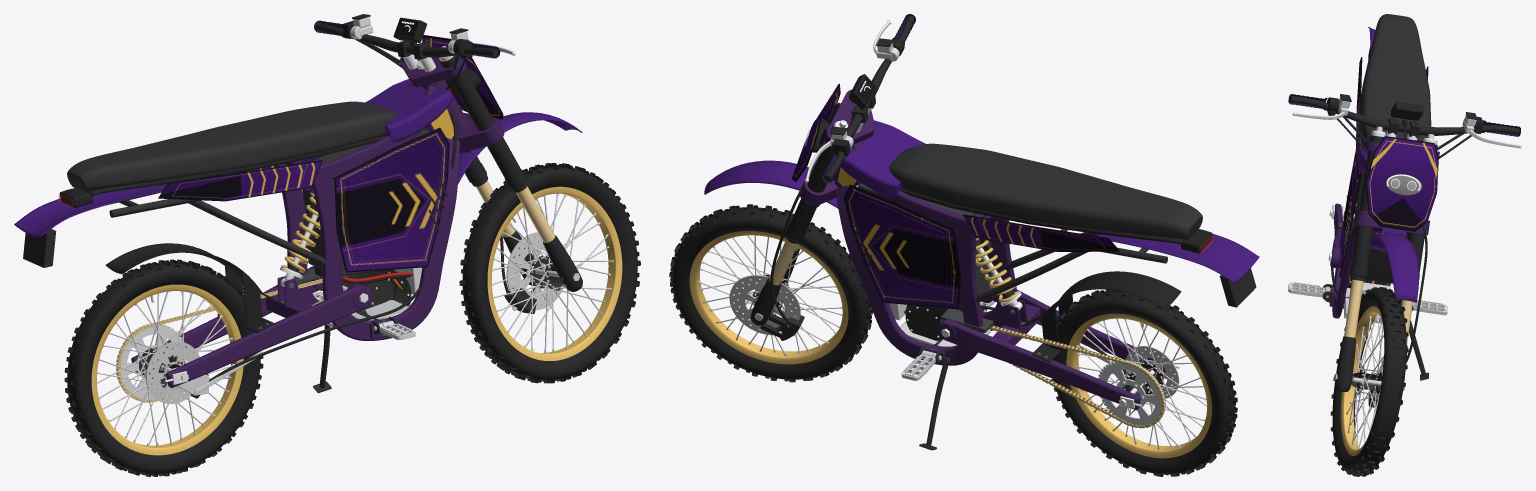
File: surron-light-bee-x-royale.glb
3 views of the same model, side by side, from view 1: azimuth 30°, elevation 25°; view 2: azimuth 150°, elevation 25°; view 3: azimuth 270°, elevation 25° (orthographic). The views are drawn at different scales.
Visible parts, largest first — view 1: Seat, Tire_R, Tire_F, Frame_Main, SidePanel_Inner_R, Swingarm_Arms, SidePanel_R, Rim_F, Rim_R, RearCover_R, Spokes_F, Spokes_R (+25 smaller); view 2: Seat, Tire_F, Tire_R, Frame_Main, SidePanel_Inner_L, Swingarm_Arms, Rim_F, SidePanel_L, Rim_R, TankCover, RearCover_L, RearFender (+21 smaller); view 3: Seat, Tire_F, HeadlightShroud, FrontFender, Spokes_F, Rim_F, Handlebar, Fork_Upper_R, Frame_Main, Battery_Pack, Fork_Lug_R, Fork_Stanchion_R (+15 smaller).
Boxes of the visible parts, x1=… form: Seat: x1=67, y1=101, x2=396, y2=191; Tire_R: x1=64, y1=259, x2=263, y2=476; Tire_F: x1=459, y1=163, x2=640, y2=383; Frame_Main: x1=275, y1=82, x2=459, y2=340; SidePanel_Inner_R: x1=347, y1=141, x2=439, y2=256; Swingarm_Arms: x1=131, y1=266, x2=372, y2=387; SidePanel_R: x1=334, y1=127, x2=449, y2=272; Rim_F: x1=487, y1=186, x2=622, y2=360; Rim_R: x1=91, y1=284, x2=243, y2=455; RearCover_R: x1=158, y1=160, x2=322, y2=201; Spokes_F: x1=492, y1=194, x2=612, y2=352; Spokes_R: x1=97, y1=291, x2=233, y2=446; Seat: x1=889, y1=143, x2=1202, y2=239; Tire_F: x1=669, y1=204, x2=873, y2=382; Tire_R: x1=1050, y1=289, x2=1237, y2=476; Frame_Main: x1=834, y1=130, x2=1016, y2=365; SidePanel_Inner_L: x1=854, y1=196, x2=947, y2=296; Swingarm_Arms: x1=937, y1=280, x2=1170, y2=410; Rim_F: x1=689, y1=231, x2=848, y2=364; SidePanel_L: x1=843, y1=184, x2=961, y2=309; Rim_R: x1=1066, y1=313, x2=1211, y2=458; TankCover: x1=840, y1=120, x2=925, y2=197; RearCover_L: x1=963, y1=214, x2=1119, y2=251; RearFender: x1=1094, y1=234, x2=1259, y2=282; Seat: x1=1359, y1=14, x2=1431, y2=147; Tire_F: x1=1330, y1=287, x2=1408, y2=476; HeadlightShroud: x1=1365, y1=136, x2=1438, y2=231; FrontFender: x1=1370, y1=232, x2=1419, y2=302; Spokes_F: x1=1346, y1=315, x2=1383, y2=448; Rim_F: x1=1340, y1=306, x2=1382, y2=455; Handlebar: x1=1289, y1=96, x2=1519, y2=135; Fork_Upper_R: x1=1350, y1=135, x2=1383, y2=277; Frame_Main: x1=1329, y1=136, x2=1408, y2=318; Battery_Pack: x1=1350, y1=174, x2=1407, y2=283; Fork_Lug_R: x1=1335, y1=336, x2=1355, y2=391; Fork_Stanchion_R: x1=1344, y1=279, x2=1363, y2=337.
Bounding box in the file's own units: 1.97 × 1.19 × 0.7598.
43 materials, 3 textured.
